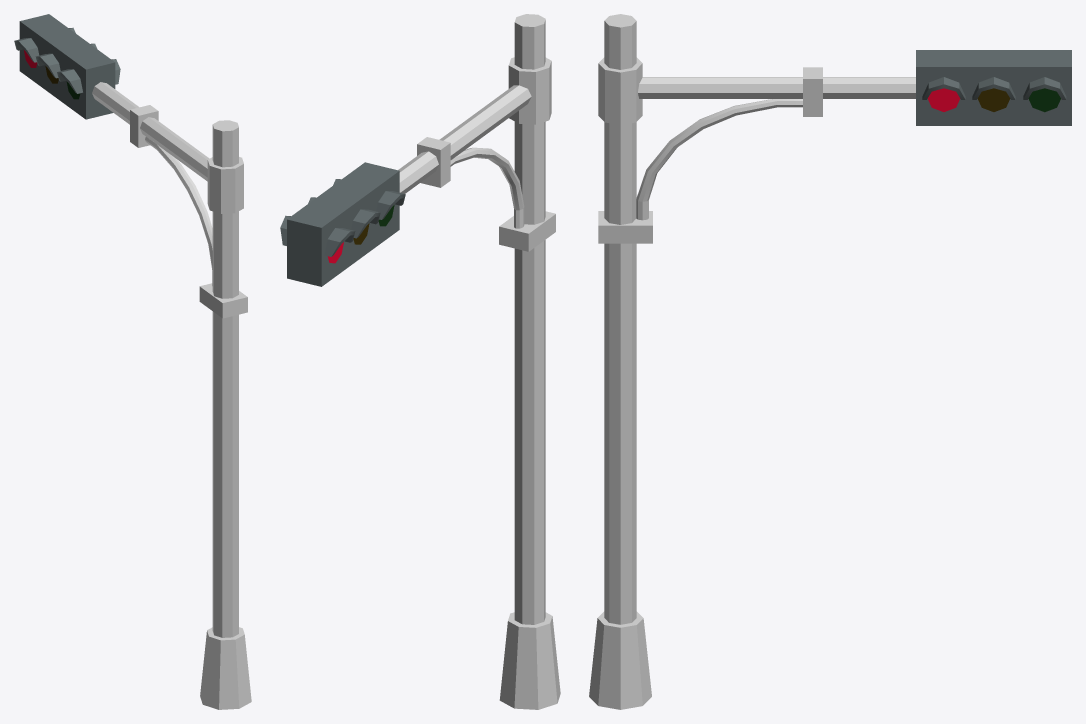
Rendered from Traffic_red.fbx.
3 views of the same model, side by side, from view 1: azimuth 30°, elevation 25°; view 2: azimuth 150°, elevation 25°; view 3: azimuth 270°, elevation 25° (orthographic). The views are drawn at different scales.
Visible parts, largest first — view 1: Traffic_red; view 2: Traffic_red; view 3: Traffic_red.
Part boxes in pixels (left/top/right/bottom): Traffic_red: left=14, top=14, right=251, bottom=709; Traffic_red: left=280, top=14, right=560, bottom=709; Traffic_red: left=589, top=14, right=1071, bottom=709.
Bounding box in the file's own units: 77.75 × 776 × 503.
Materials: 1 (1 with a texture image).
